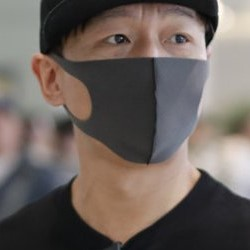mask: (36, 47, 209, 172)
